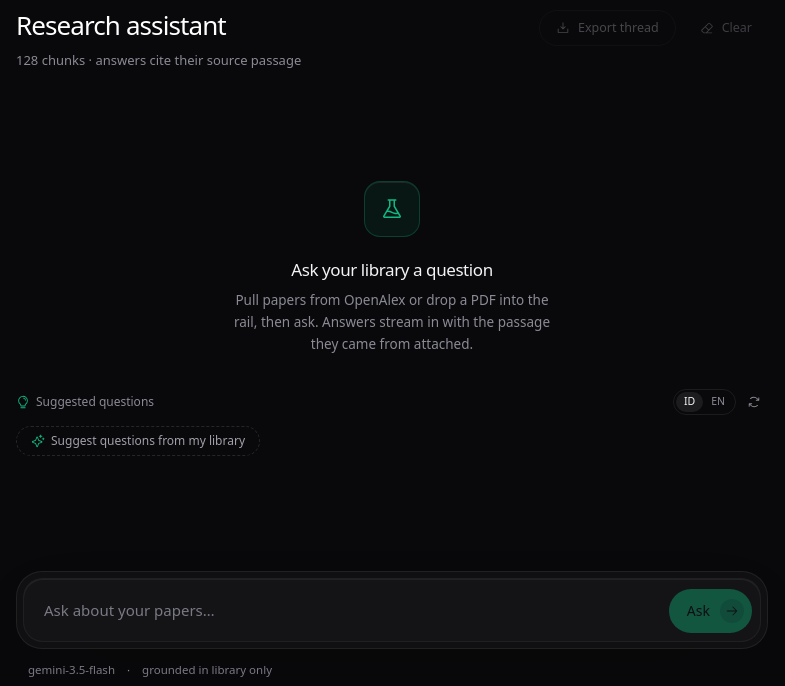
Test case: starter suggestions › shows the server's error message instead of an empty panel
expect the text "128 chunks · answers cite their source passage" is shown: met, box [16, 51, 301, 70]
What coordinates should you click on to do the following:
click the button "Suggest questions from my library"
I would click on:
 (138, 441)
Its box is [16, 426, 260, 456].
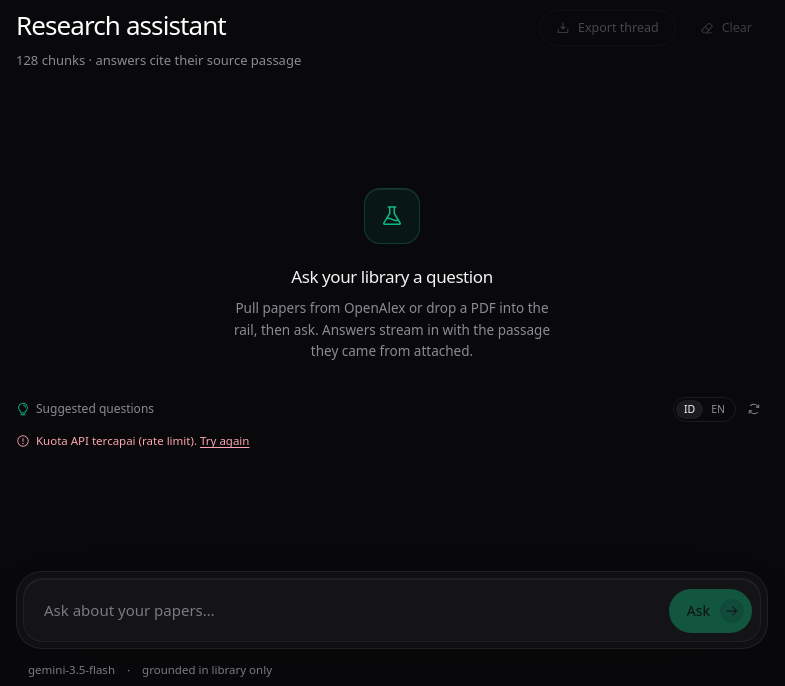
expect the message shows "rate limit": met, box [36, 433, 197, 448]
